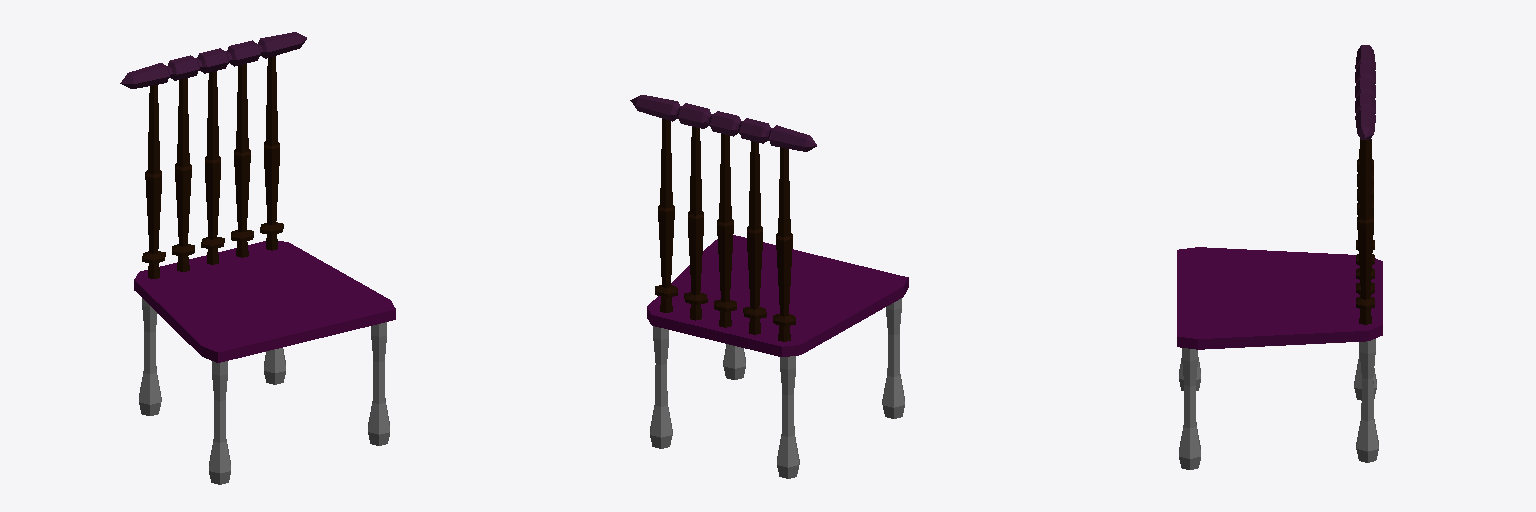
Rendered from Chair.obj.
3 renders of one model, left to right at view 1: azimuth 30°, elevation 25°; view 2: azimuth 150°, elevation 25°; view 3: azimuth 270°, elevation 25°, orthographic.
Parts seen in each view (by area): view 1: ChairShape_ChairShape; view 2: ChairShape_ChairShape; view 3: ChairShape_ChairShape.
Boxes of the visible parts, x1=… form: ChairShape_ChairShape: x1=120, y1=32, x2=395, y2=484; ChairShape_ChairShape: x1=630, y1=95, x2=908, y2=478; ChairShape_ChairShape: x1=1177, y1=45, x2=1382, y2=469.
Bounding box in the file's own units: 3.21 × 5.57 × 3.01.